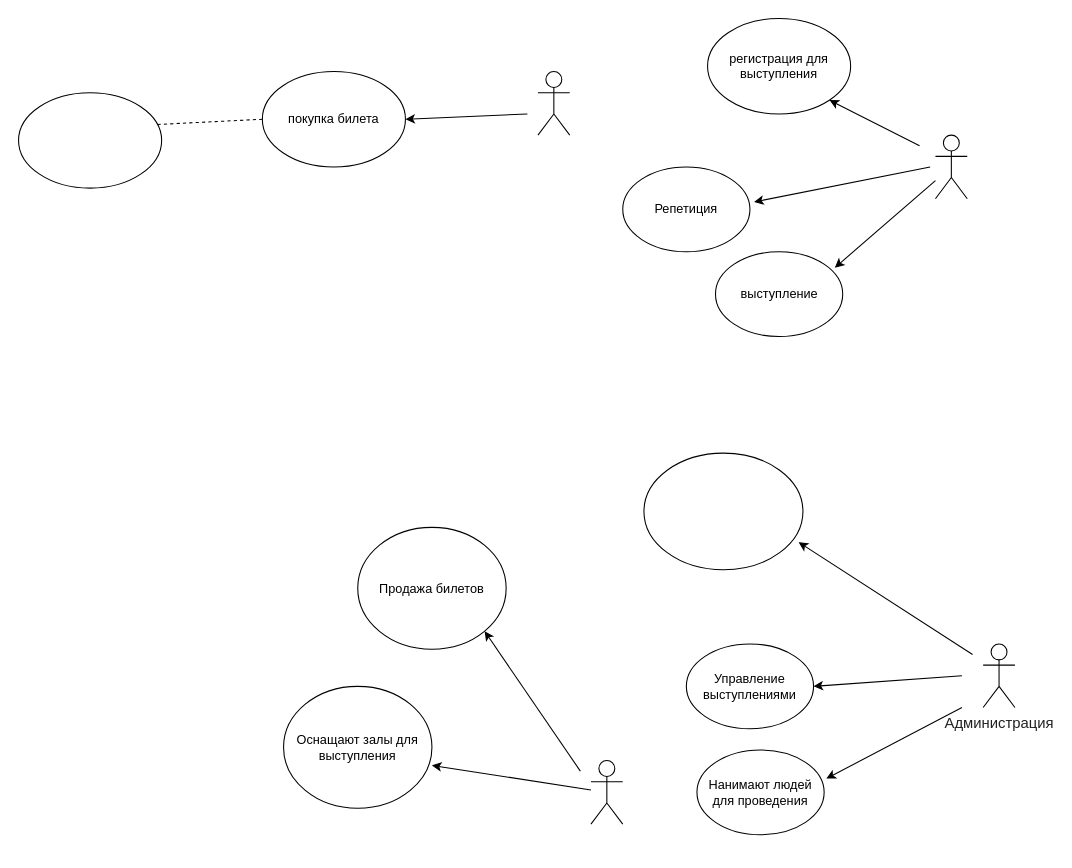
Some shapes in this 1072 by 868 pixel diagram are drawn without their labels. Here are the shapes that lost their labels. From the top down, the centre of each, then its label:
At point (553, 102): "Пользователь".
At point (89, 140): "подтверждение билета".
At point (950, 166): "выступающие".
At point (723, 511): "Управляют местом проведения".
At point (606, 791): "Нанятые люди".
